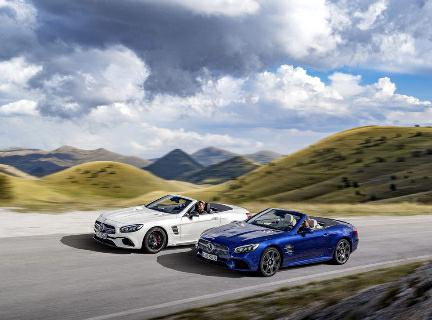奔驰-SL级AMG: (197, 210, 369, 280), (88, 189, 258, 254)
